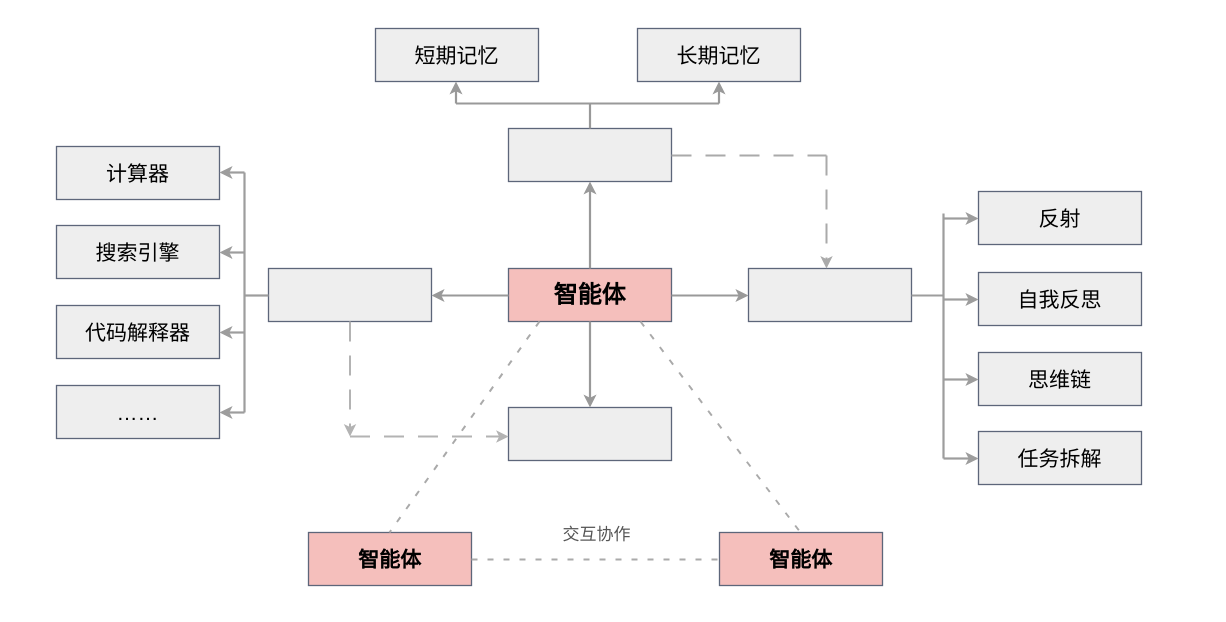
This 1226x622 diagram has some shape labels left out. Each missing label, with the box of its shape:
工具: (267, 267, 432, 322)
行动: (507, 406, 672, 461)
规划: (747, 267, 912, 322)
记忆: (507, 127, 672, 182)
